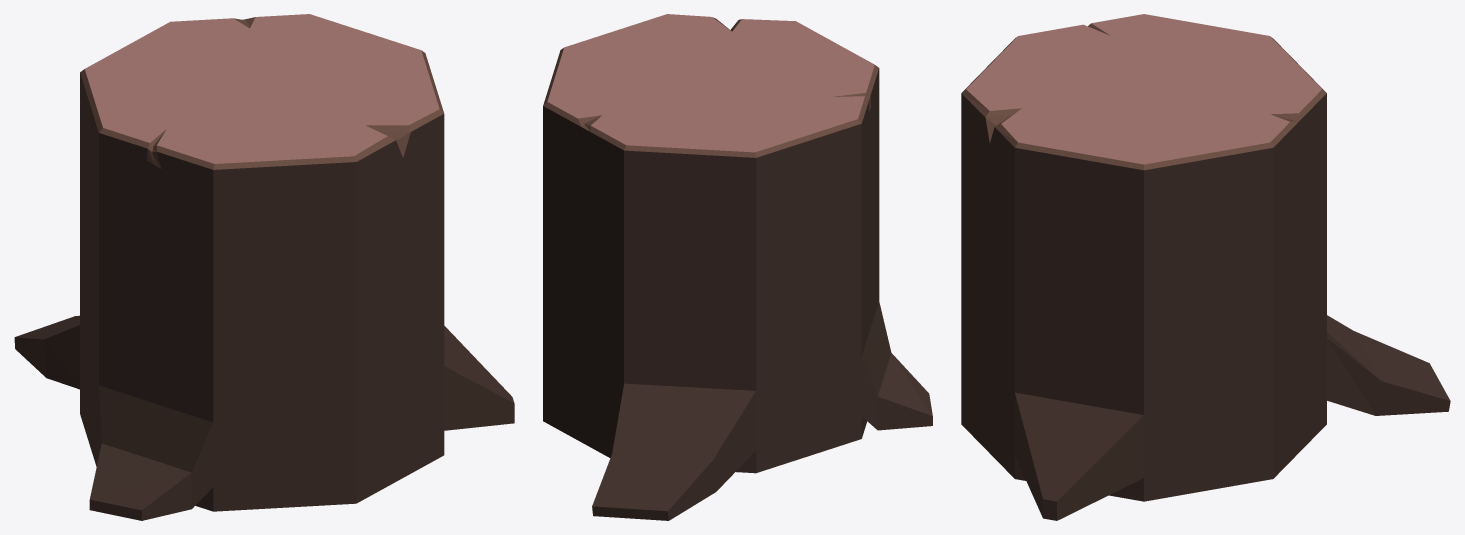
Rendered from Log.fbx.
3 views of the same model, side by side, from view 1: azimuth 30°, elevation 25°; view 2: azimuth 150°, elevation 25°; view 3: azimuth 270°, elevation 25° (orthographic). The views are drawn at different scales.
Parts seen in each view (by area): view 1: Log; view 2: Log; view 3: Log.
Boxes of the visible parts, box(x1,y1,x2,y2) form: Log: box(14, 14, 514, 520); Log: box(543, 14, 932, 520); Log: box(961, 14, 1450, 520).
Bounding box in the file's own units: 37.83 × 30.46 × 40.16.
Materials: 1 (1 with a texture image).
